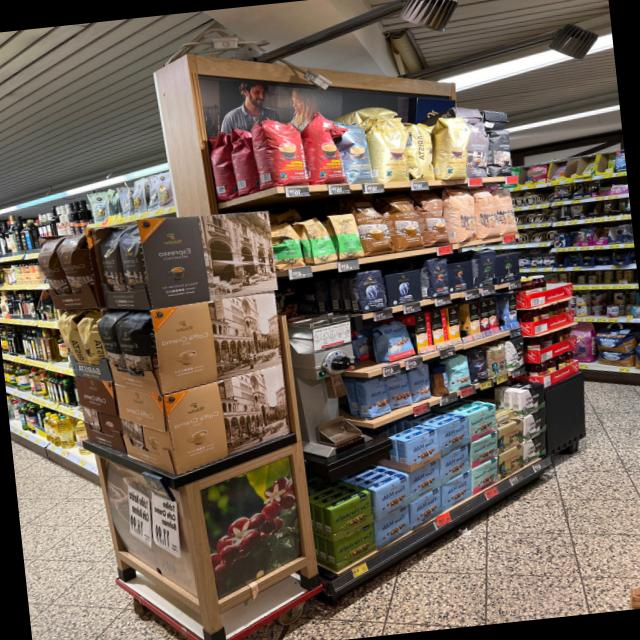AB Bohne: (356, 267, 387, 313)
AB Gemahlen: (384, 268, 424, 308)
Athiopien Bohne: (269, 218, 303, 270)
Athiopien Gemahlen: (302, 213, 334, 266), (332, 211, 362, 260)
BM Bohne: (471, 249, 499, 289)
BM Gemahlen: (494, 250, 524, 284)
BW Bohne: (504, 336, 526, 372)
BW Gemahlen: (517, 383, 546, 418), (522, 407, 547, 443), (522, 431, 548, 465)
Barista CB: (368, 115, 411, 183), (432, 114, 474, 180), (403, 120, 438, 182)
Barista CC: (336, 121, 374, 185)
Barista Kolumbien: (255, 106, 309, 190), (300, 104, 346, 186)
C Fino Bohne: (466, 346, 489, 384)
CC Mild: (443, 187, 477, 245), (472, 186, 498, 238), (492, 187, 518, 236)
CC Vollmundig 36 Pads: (356, 195, 390, 256), (387, 194, 422, 252), (417, 191, 449, 247)
Colombia BB Bohne: (485, 342, 508, 378)
Colombia BB Gemahlen: (497, 417, 524, 455), (498, 444, 525, 479)
Espresso Aromatisch: (464, 120, 493, 177)
Espresso Kraftig: (484, 126, 520, 176)
FM 36 Pads: (378, 317, 414, 362)
FM Bohne: (363, 376, 390, 420), (386, 369, 411, 408), (408, 363, 432, 402)
FM Gemahlen: (371, 472, 412, 521), (372, 503, 413, 550), (405, 428, 442, 473), (409, 486, 445, 529), (407, 460, 443, 502), (437, 415, 472, 456), (438, 443, 472, 485), (440, 470, 472, 512)
Herzhatfe Mundig: (329, 489, 375, 542), (333, 522, 377, 572)
LG Bohne: (420, 256, 452, 299)
LG Gemahlen: (446, 259, 476, 293)
SM Bohne: (447, 351, 471, 391)
SM Gemahlen: (470, 455, 502, 496), (469, 430, 500, 470), (467, 404, 498, 441)
Simo CCMild: (430, 308, 450, 349), (414, 311, 433, 354)
Simo CCMild bigpack: (447, 306, 461, 344)
Simo Decaff: (468, 302, 481, 339)
Simo Es Brazil: (486, 297, 500, 334)
Simo Es Caramel: (479, 299, 491, 336)
Simo Es Vanilla: (508, 292, 519, 329)
